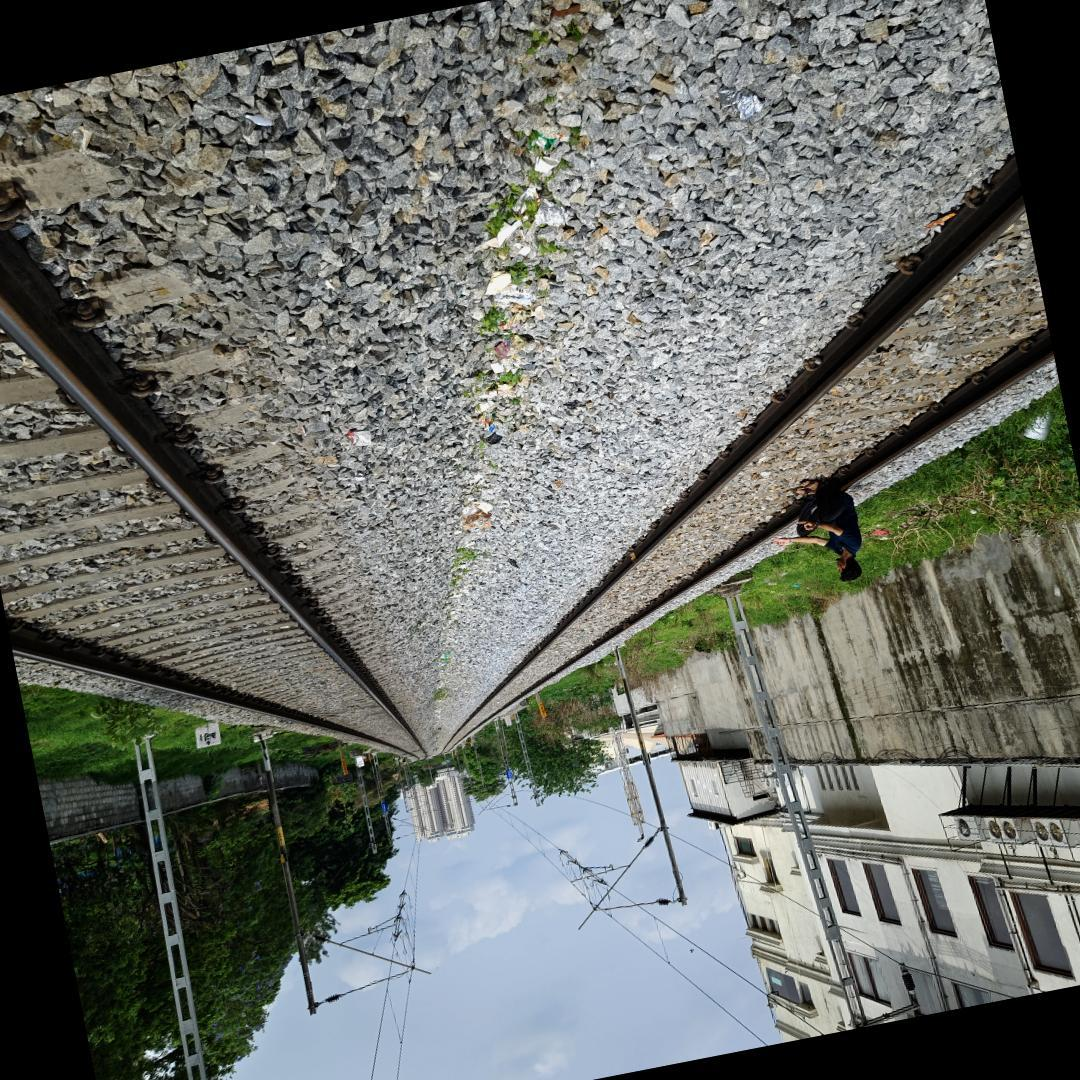sitting: (778, 462, 890, 602)
track: (446, 76, 1060, 723), (0, 82, 438, 759)
